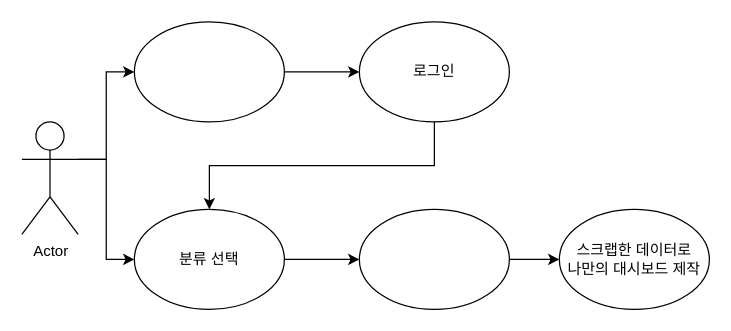
Image size: 731x331. Some labels were removed from this diagram. Each missing label, with the centre of its shape:
대시보드 확인: [433,258]
회원가입: [208,71]
